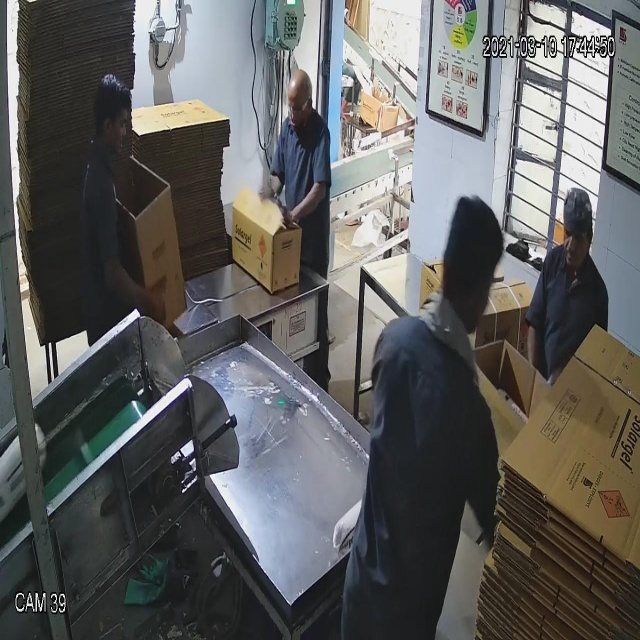Sin_guantes: (96, 250, 176, 337), (276, 178, 335, 229)
